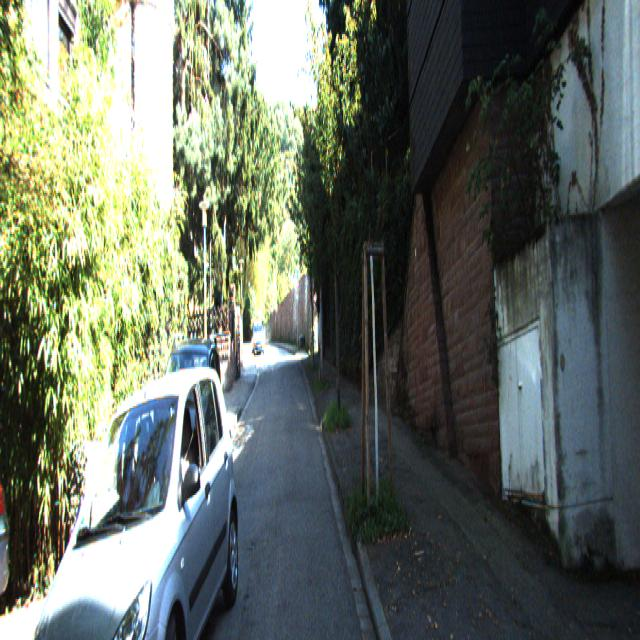Car: (8, 350, 240, 638), (140, 331, 223, 555), (253, 320, 266, 359)
